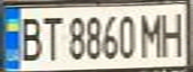0: (118, 11, 139, 60)
6: (103, 11, 121, 61)
8: (63, 11, 87, 61), (81, 11, 103, 61)
B: (15, 12, 45, 62)
H: (157, 7, 190, 57)
M: (136, 9, 166, 58)
T: (39, 12, 63, 62)
